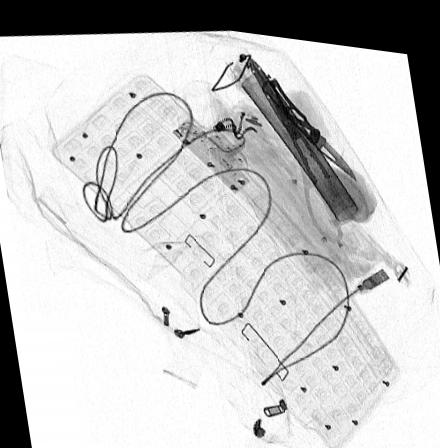Knife: (260, 70, 358, 172)
Scissors: (247, 49, 369, 235)
